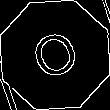O_SE: (25, 23, 85, 87)
